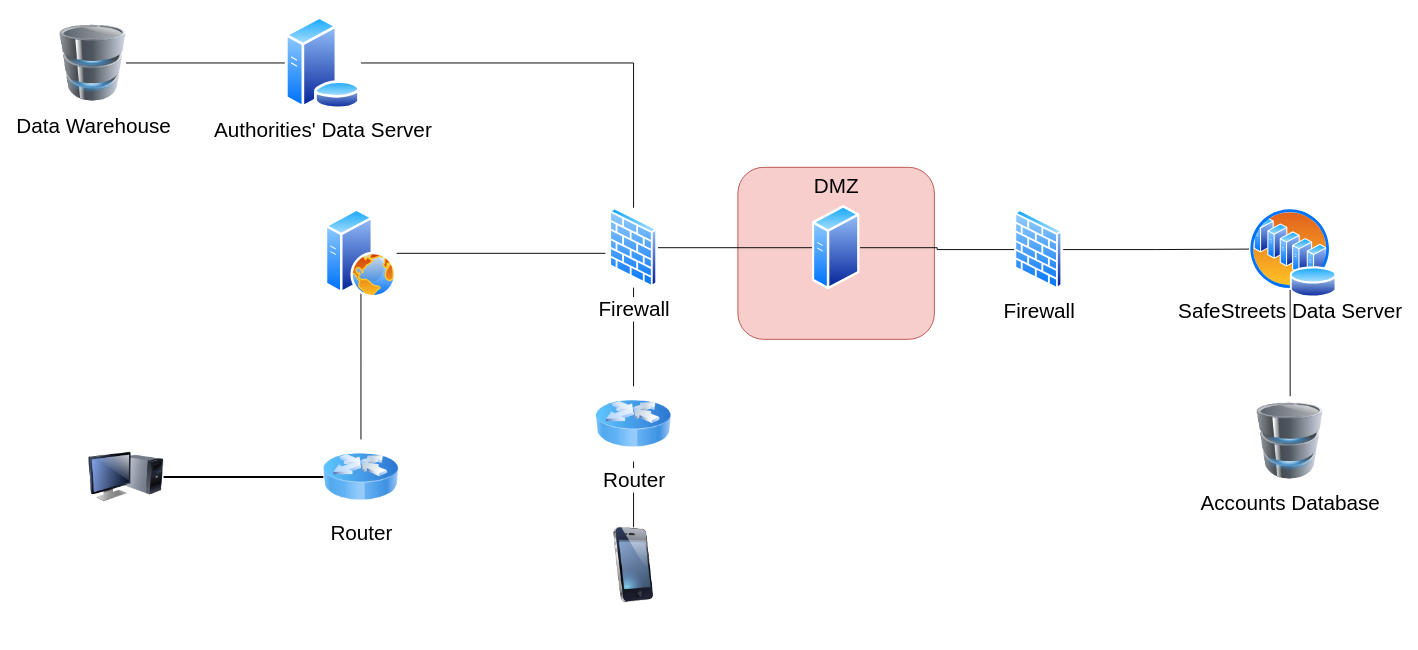
This 1418x650 diagram has some shape labels left out. The shapes that lost their labels are listed below. From the top down, each one's centre as x and y in pixels, then its label:
At point (360, 253): "Authority's Web Server".
At point (836, 247): "Application Server".
At point (125, 476): "Authority's Web Application".
At point (633, 564): "Mobile".
